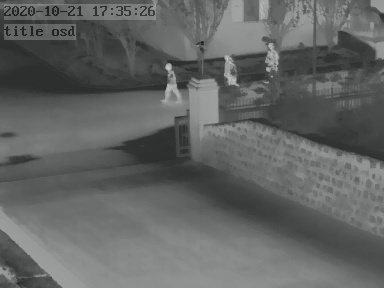person: (165, 62, 180, 100), (224, 52, 237, 86), (267, 40, 279, 73)
